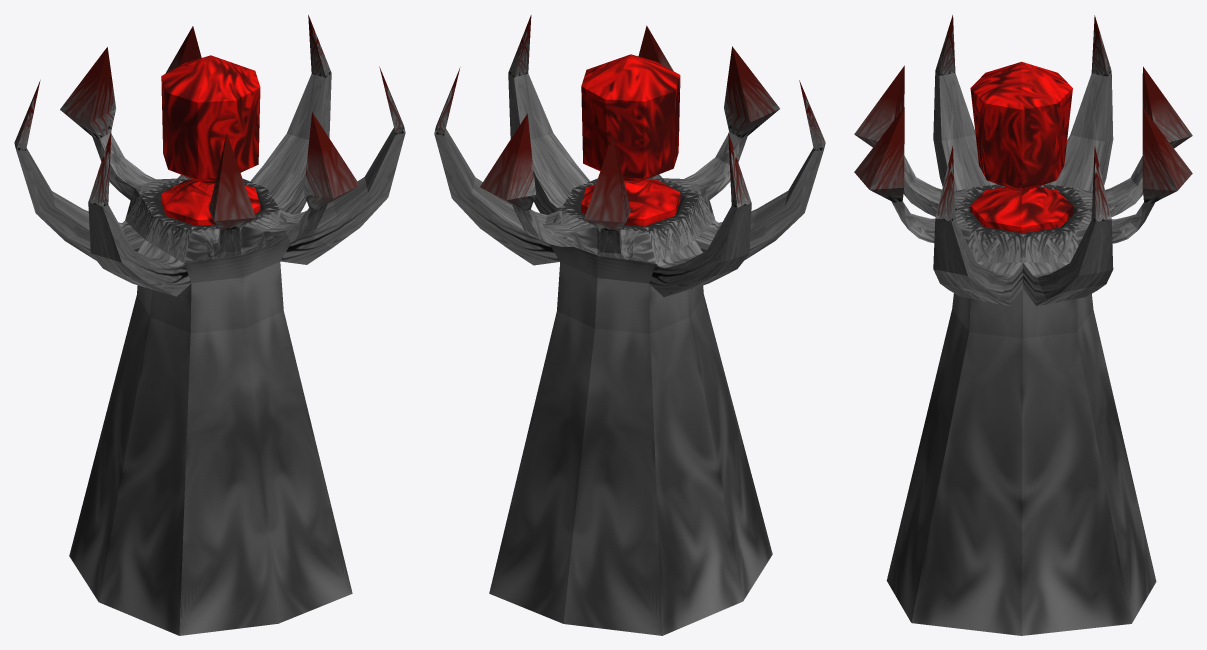
File: DrainTower.fbx
3 renders of one model, left to right at view 1: azimuth 30°, elevation 25°; view 2: azimuth 150°, elevation 25°; view 3: azimuth 270°, elevation 25°, orthographic.
Parts seen in each view (by area): view 1: Cube, Cylinder; view 2: Cube, Cylinder; view 3: Cube, Cylinder.
Part boxes in pixels (x1,y1,x2,y2): Cube: (14,15,405,635); Cylinder: (161,55,260,225); Cube: (434,15,825,635); Cylinder: (581,54,680,226); Cube: (854,15,1192,635); Cylinder: (970,61,1072,233).
Bounding box in the file's own units: 711 × 1119 × 661.
2 materials, 2 textured.
